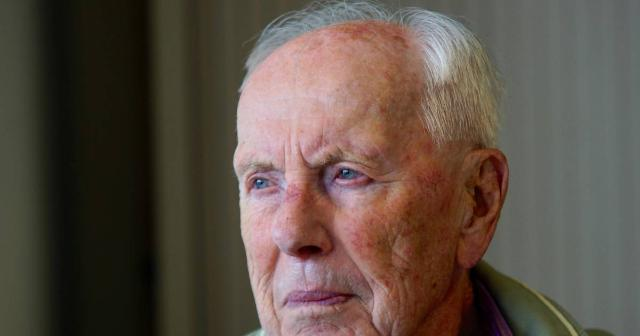crows_feet: (373, 171, 401, 193)
frown_line: (295, 138, 309, 170), (277, 146, 293, 174)
gummy_smile: (348, 256, 378, 290), (266, 248, 284, 284)
sad_smile: (266, 293, 284, 321), (360, 304, 378, 330)
